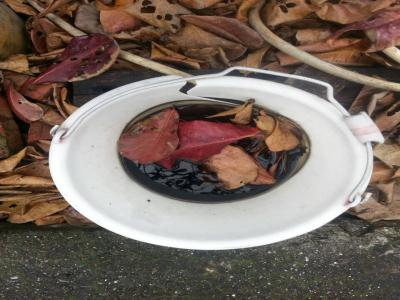bucket: (41, 62, 390, 254)
